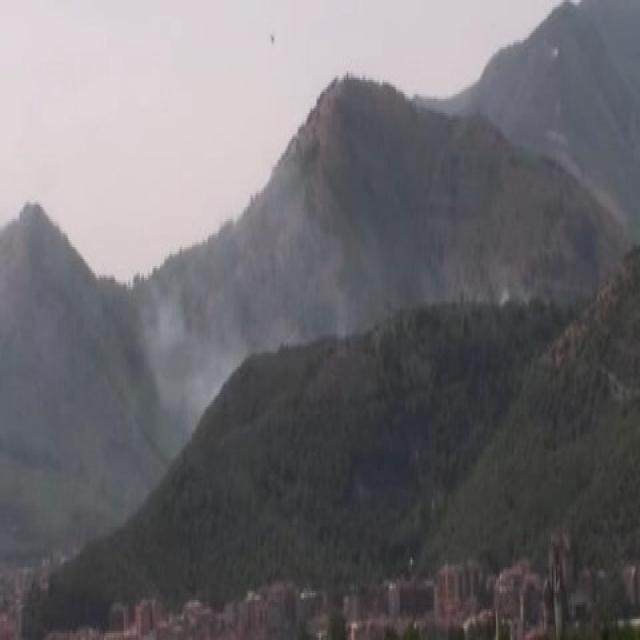Smoke: (138, 265, 233, 418)
